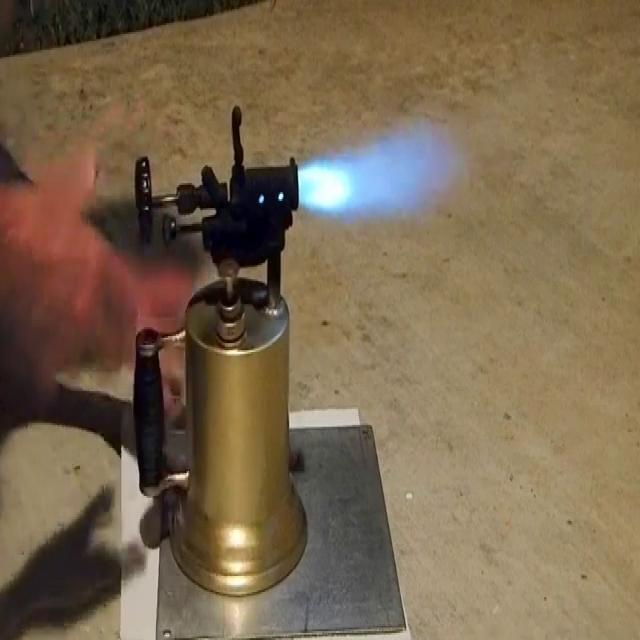fire: (293, 127, 489, 227)
